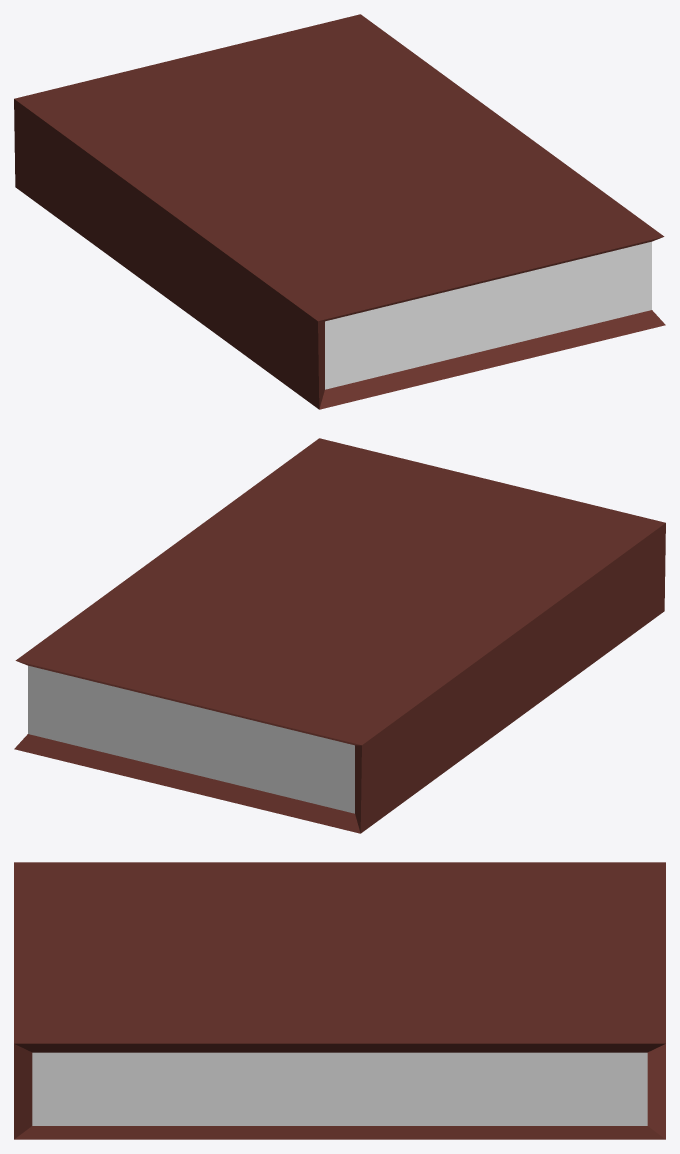
Rendered from book.fbx.
3 renders of one model, top to bottom at view 1: azimuth 30°, elevation 25°; view 2: azimuth 150°, elevation 25°; view 3: azimuth 270°, elevation 25°, orthographic. The views are drawn at different scales.
Parts seen in each view (by area): view 1: book, Cube.026; view 2: book, Cube.026; view 3: book, Cube.026.
Part boxes in pixels (box(x1,y1,x2,y2)): book: box(14, 14, 665, 409); Cube.026: box(325, 241, 651, 389); book: box(14, 438, 665, 833); Cube.026: box(28, 665, 354, 813); book: box(14, 862, 665, 1139); Cube.026: box(32, 1052, 647, 1125).
Bounding box in the file's own units: 57.94 × 14.13 × 87.66.
